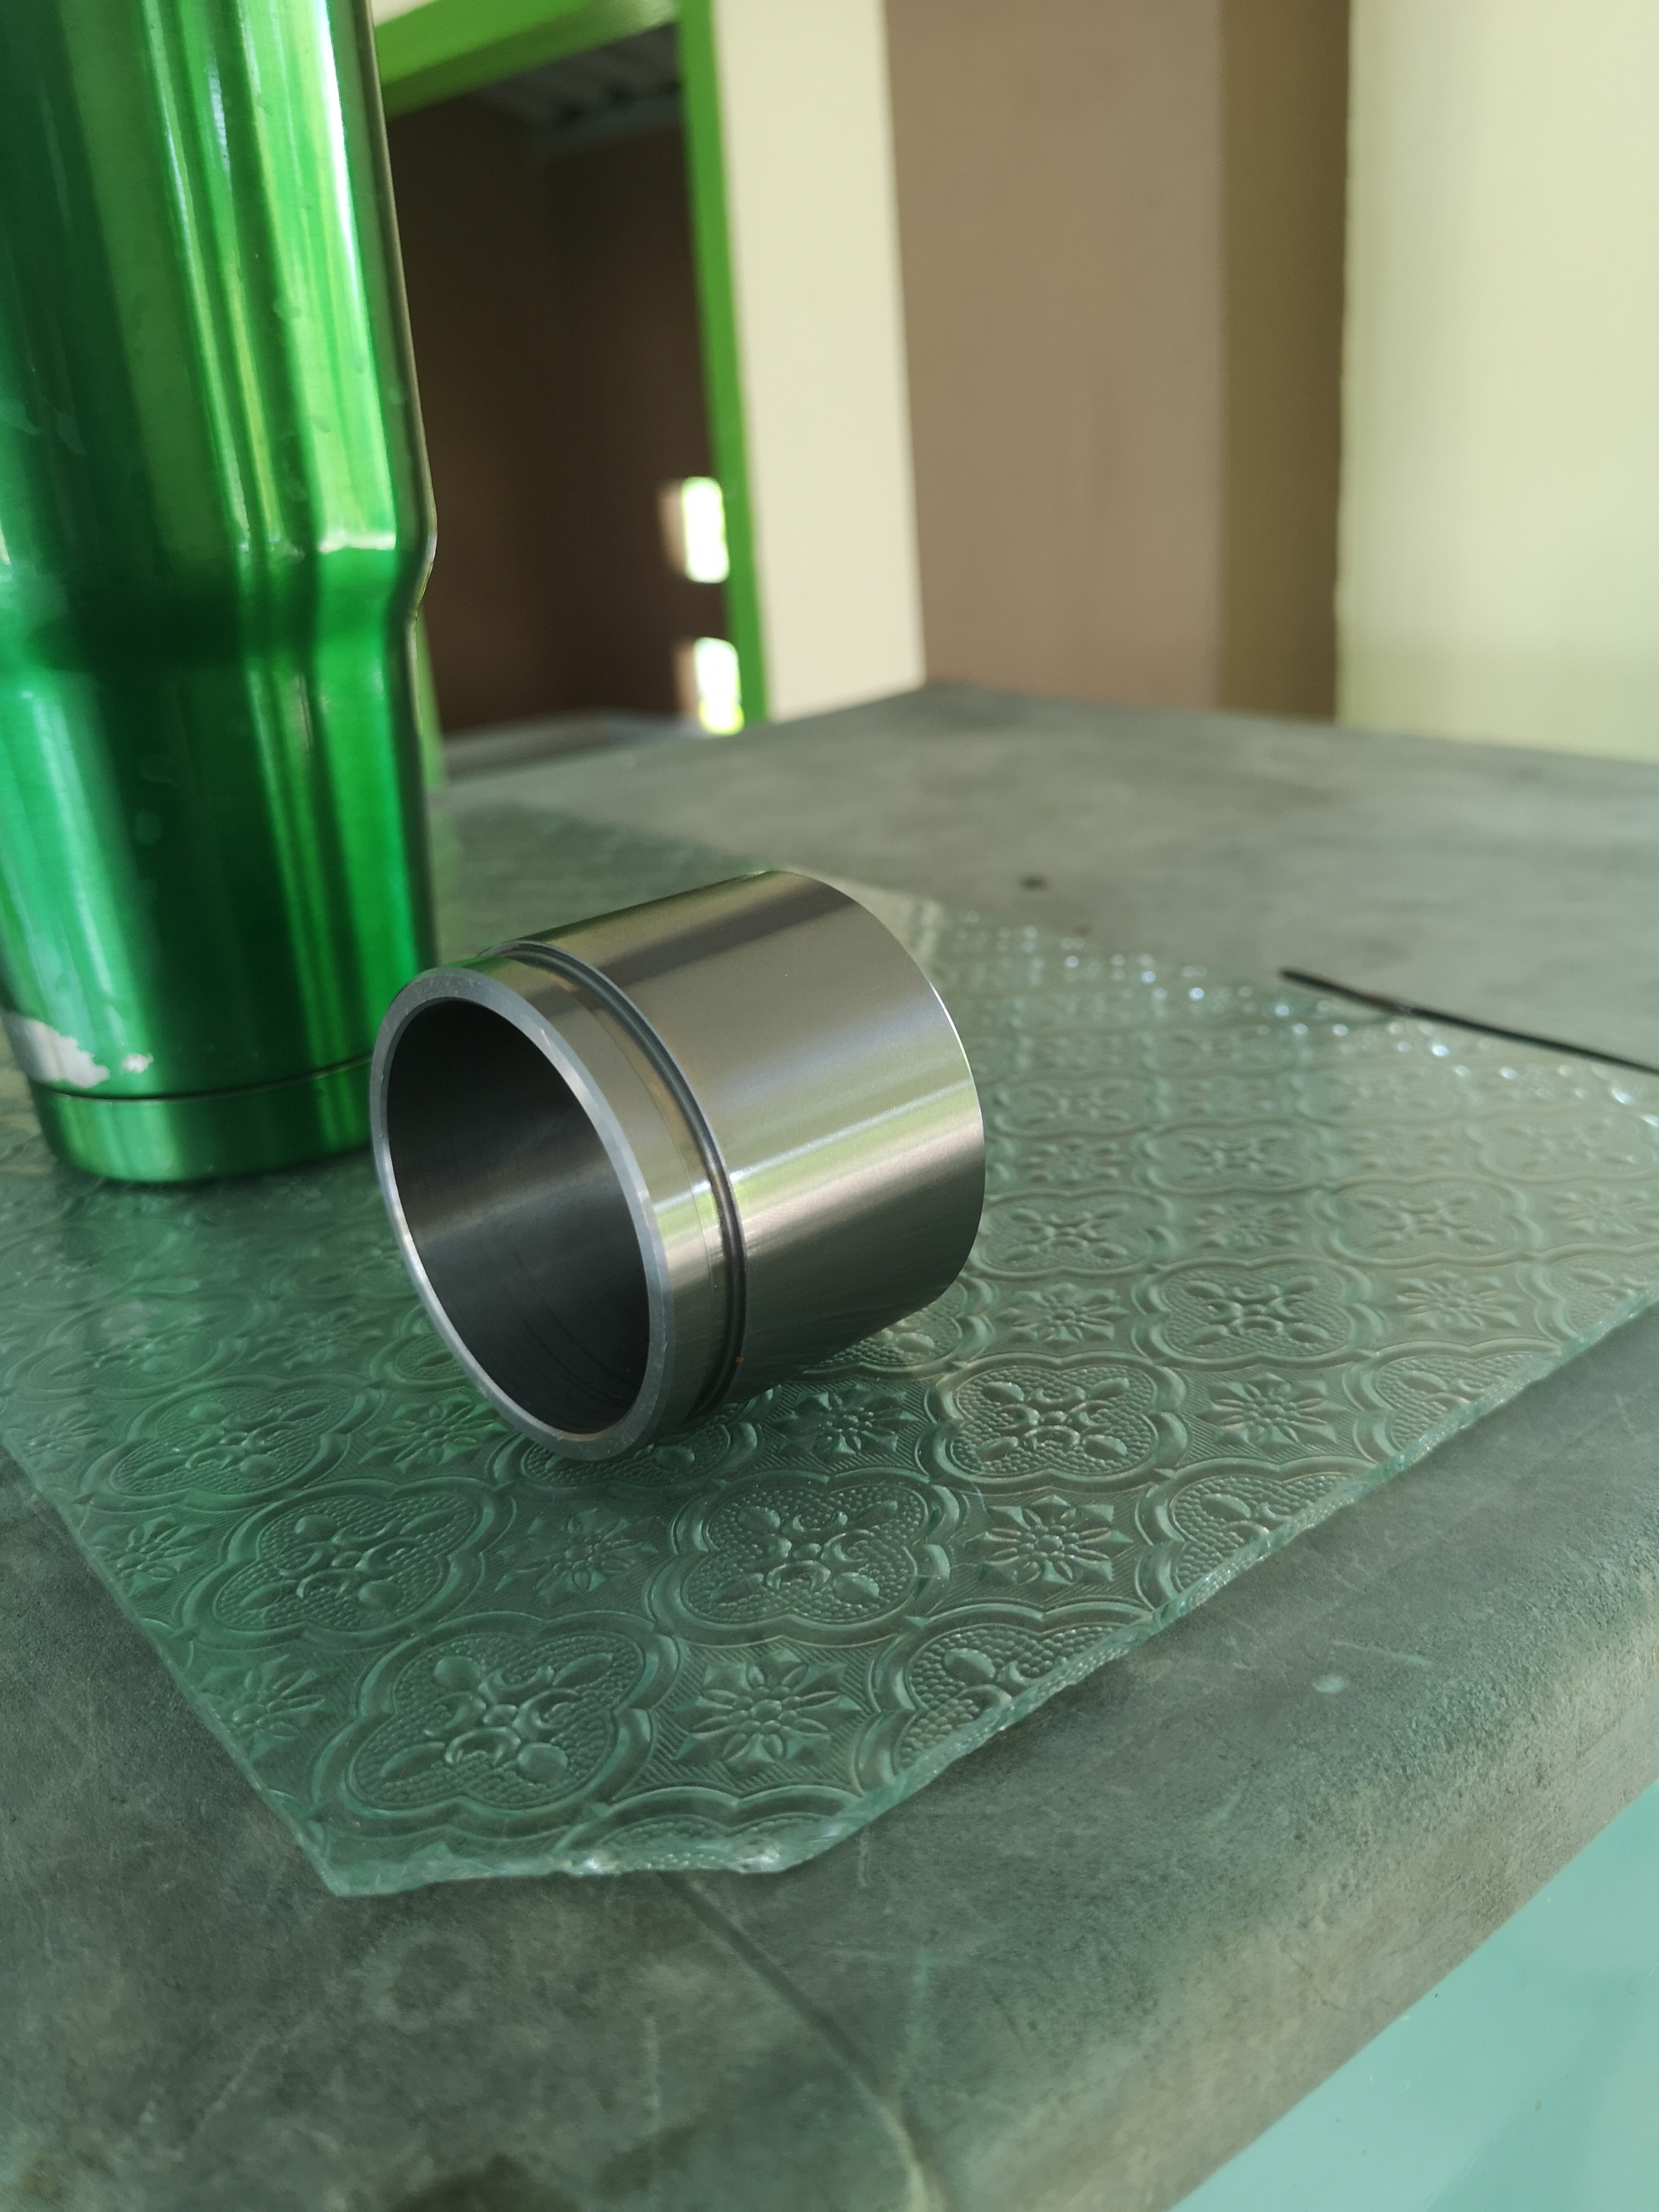ลูกสูบดิสเบรค: (364, 824, 1006, 1465)
